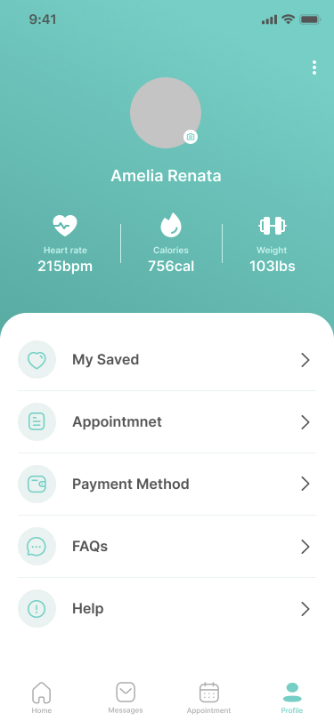BottomBar: (1, 678, 334, 720)
